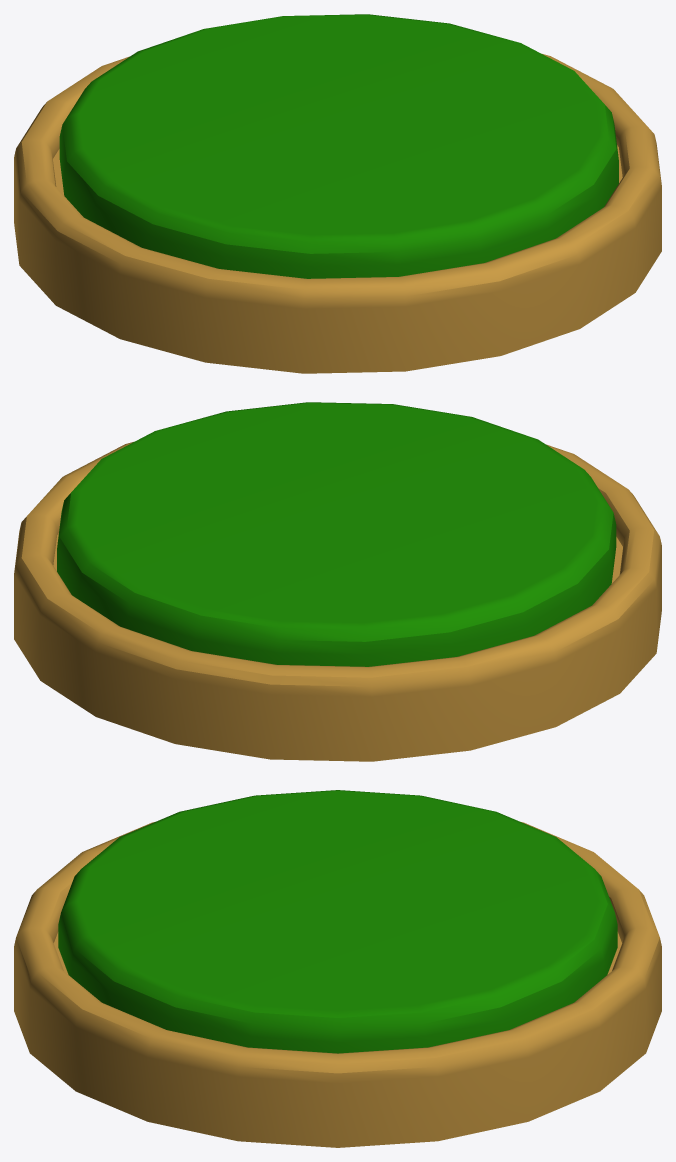
Rendered from a5_green.fbx.
3 views of the same model, one above another, from view 1: azimuth 30°, elevation 25°; view 2: azimuth 150°, elevation 25°; view 3: azimuth 270°, elevation 25° (orthographic).
Visible parts, largest first — view 1: polySurface9; view 2: polySurface9; view 3: polySurface9.
Boxes of the visible parts, bbox=[...] form: polySurface9: bbox=[14, 14, 661, 373]; polySurface9: bbox=[14, 402, 661, 761]; polySurface9: bbox=[14, 790, 661, 1147].
Bounding box in the file's own units: 150 × 28.3 × 150.
